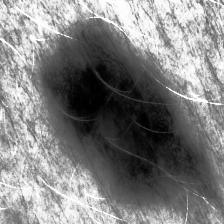Benign Marking or Mole: (42, 14, 211, 204)
